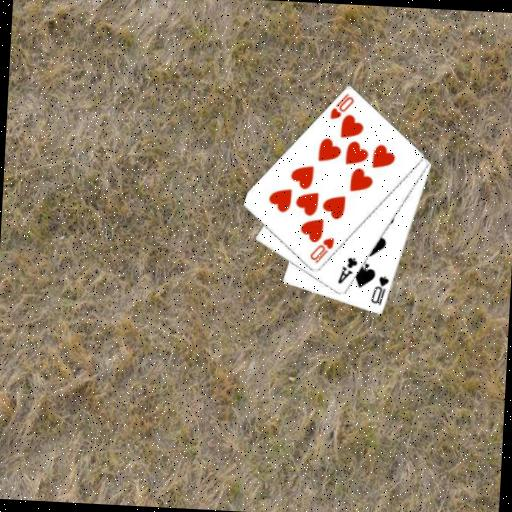10H: (306, 233, 336, 266), (327, 89, 356, 122)
10S: (368, 272, 392, 307)
AC: (335, 254, 360, 287)
